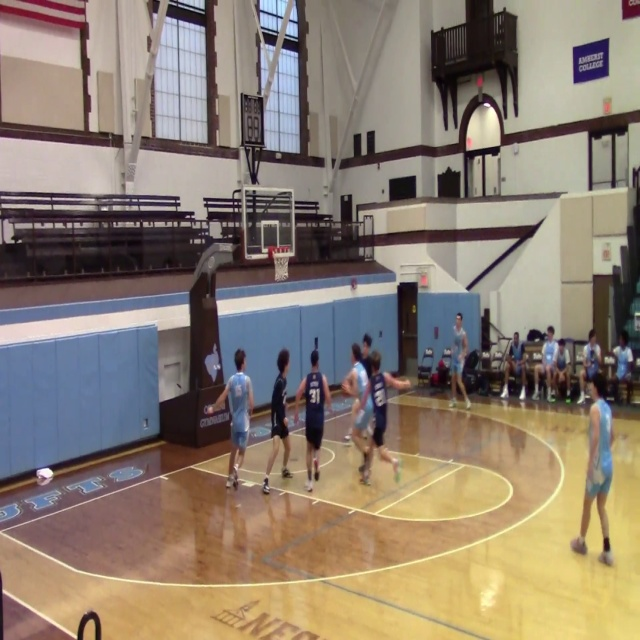Basketball: (352, 366, 369, 396), (36, 468, 53, 486), (203, 405, 213, 415)
